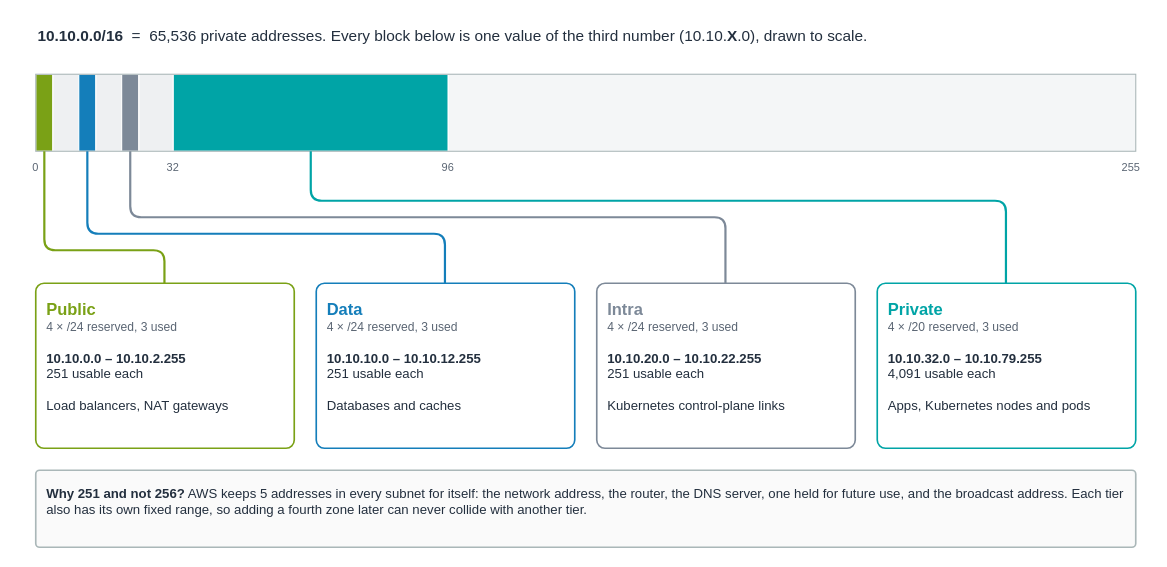
Image size: 1167x567. Some labels were removed from this diagram. Each missing label, with the box of its shape:
Private 10.10.32 – 95: (172, 73, 448, 151)
Spare: 10.10.96.0 – 10.10.255.255 · 62% kept for growth: (447, 73, 1136, 151)
